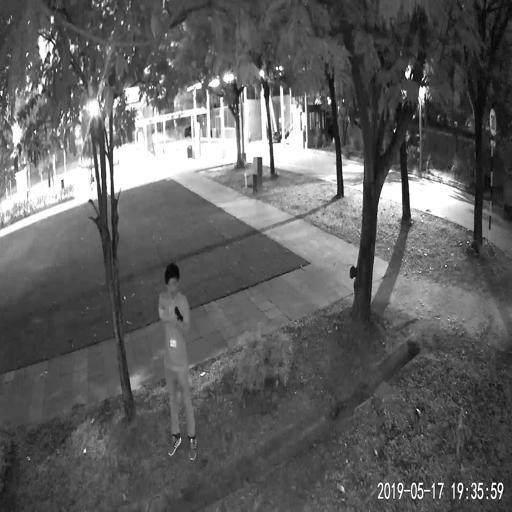Handgun: (173, 303, 182, 323)
